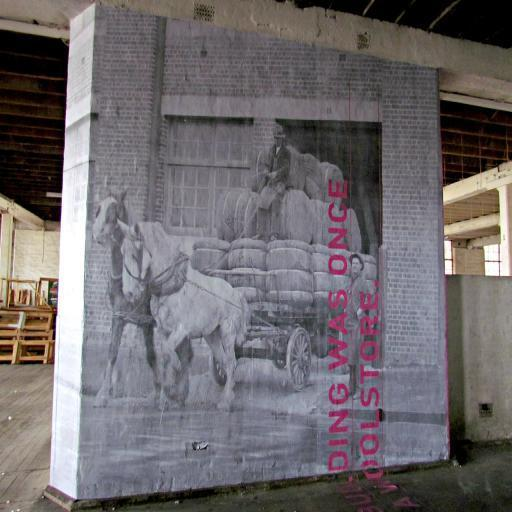horse: (117, 218, 249, 414), (89, 174, 191, 410)
